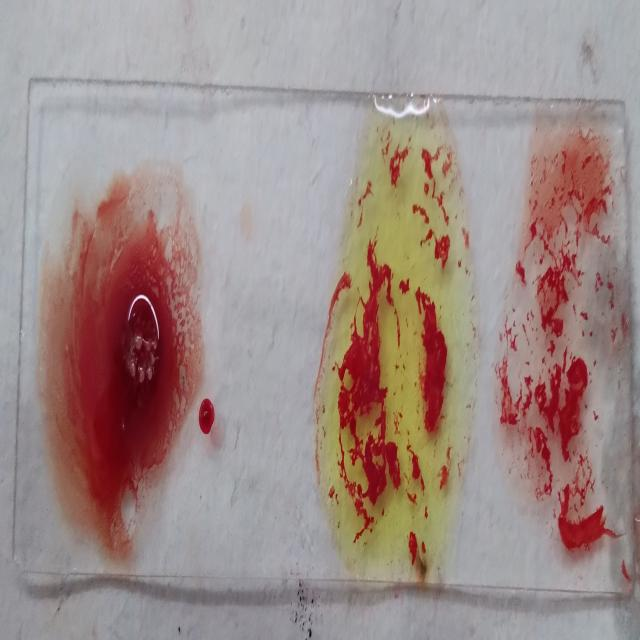A: (36, 174, 187, 556)
B: (314, 98, 479, 567)
D: (508, 116, 626, 570)
